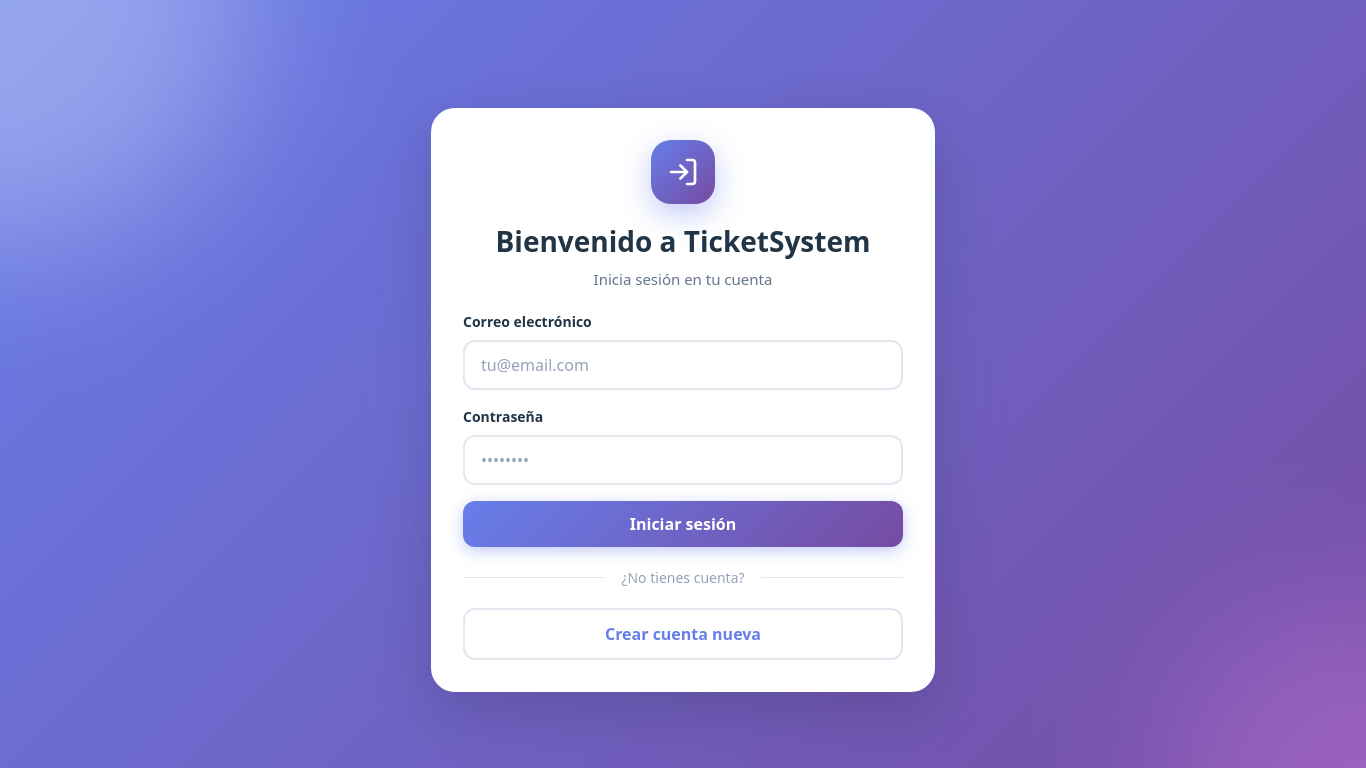
Login Page › displays generic error when error has no message
The image size is (1366, 768).
In the field labelled "Correo electrónico": (683, 365) [463, 340, 903, 390], type "test@test.com"
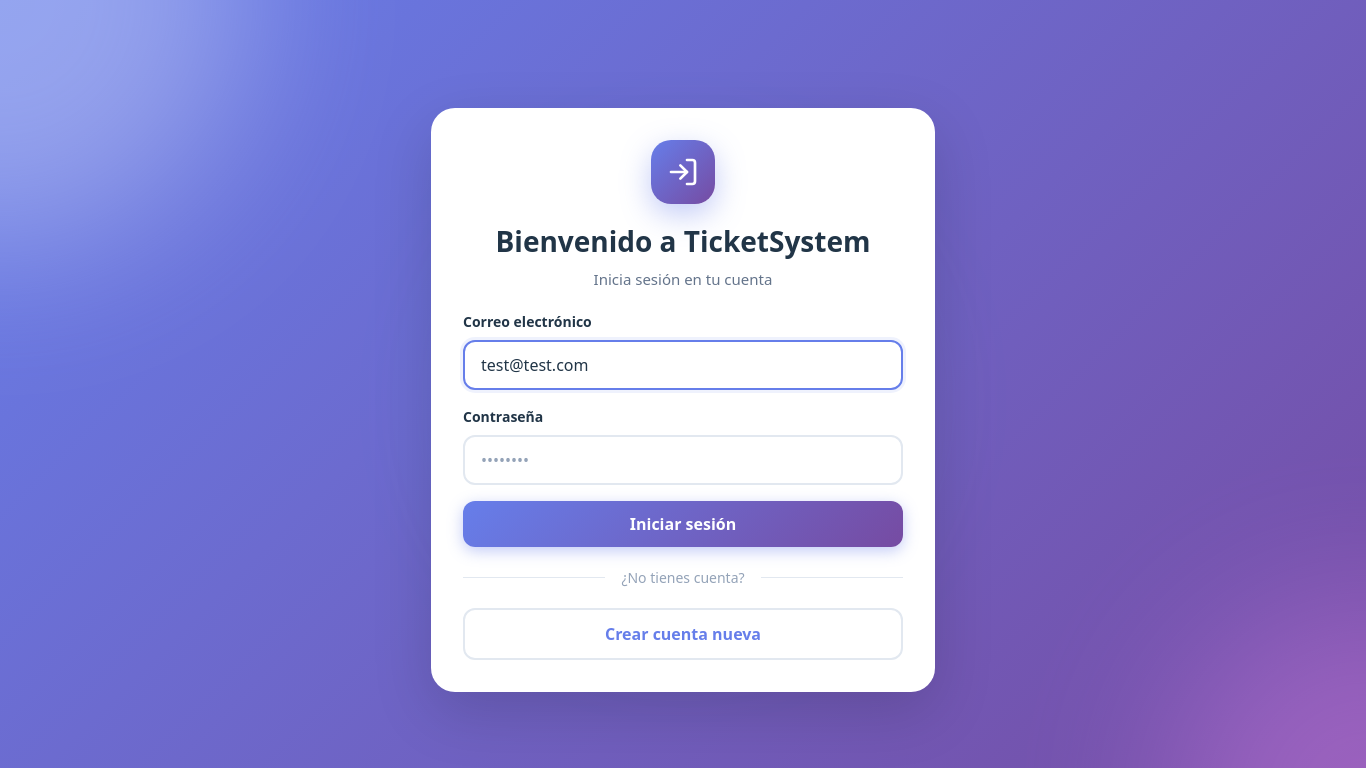
In the password field labelled "Contraseña": (683, 460) [463, 435, 903, 485], type "wrong"
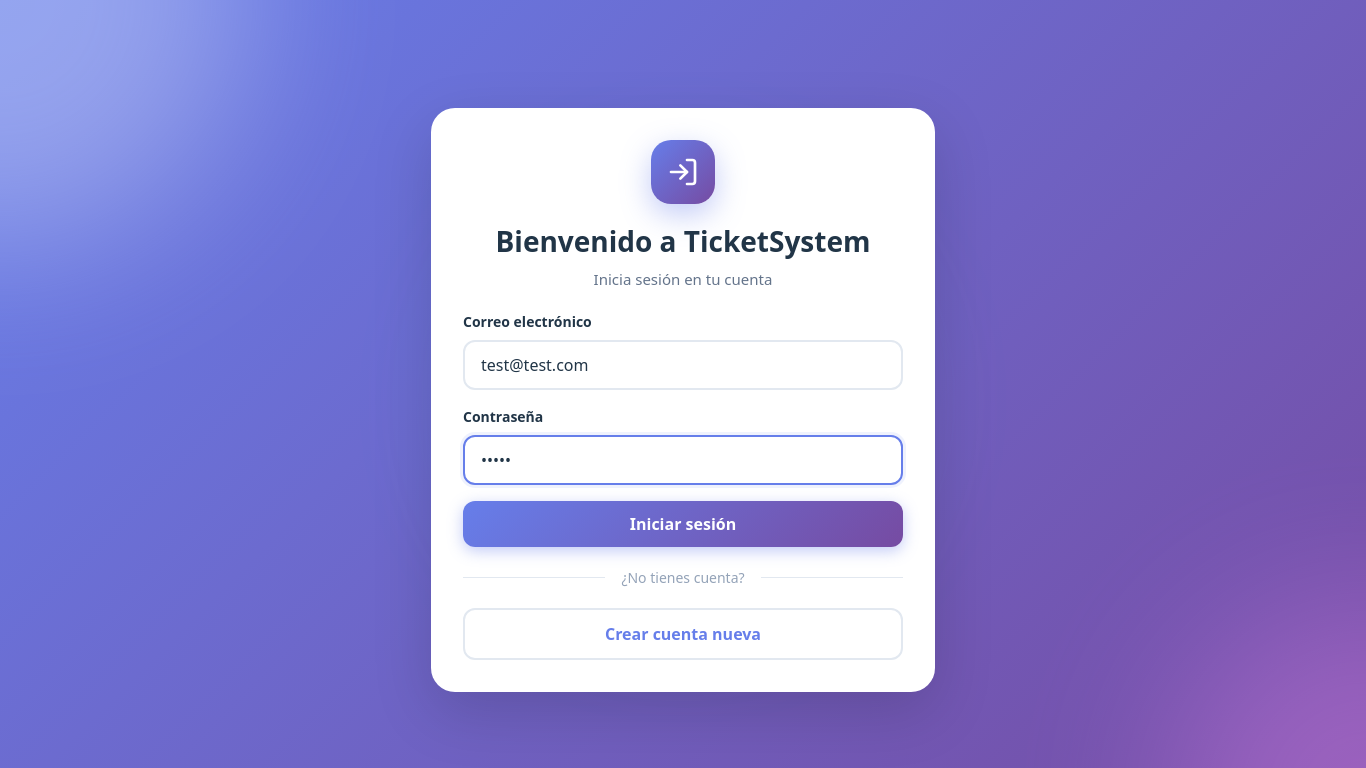
Click the button "Iniciar sesión": (683, 524) [463, 501, 903, 547]
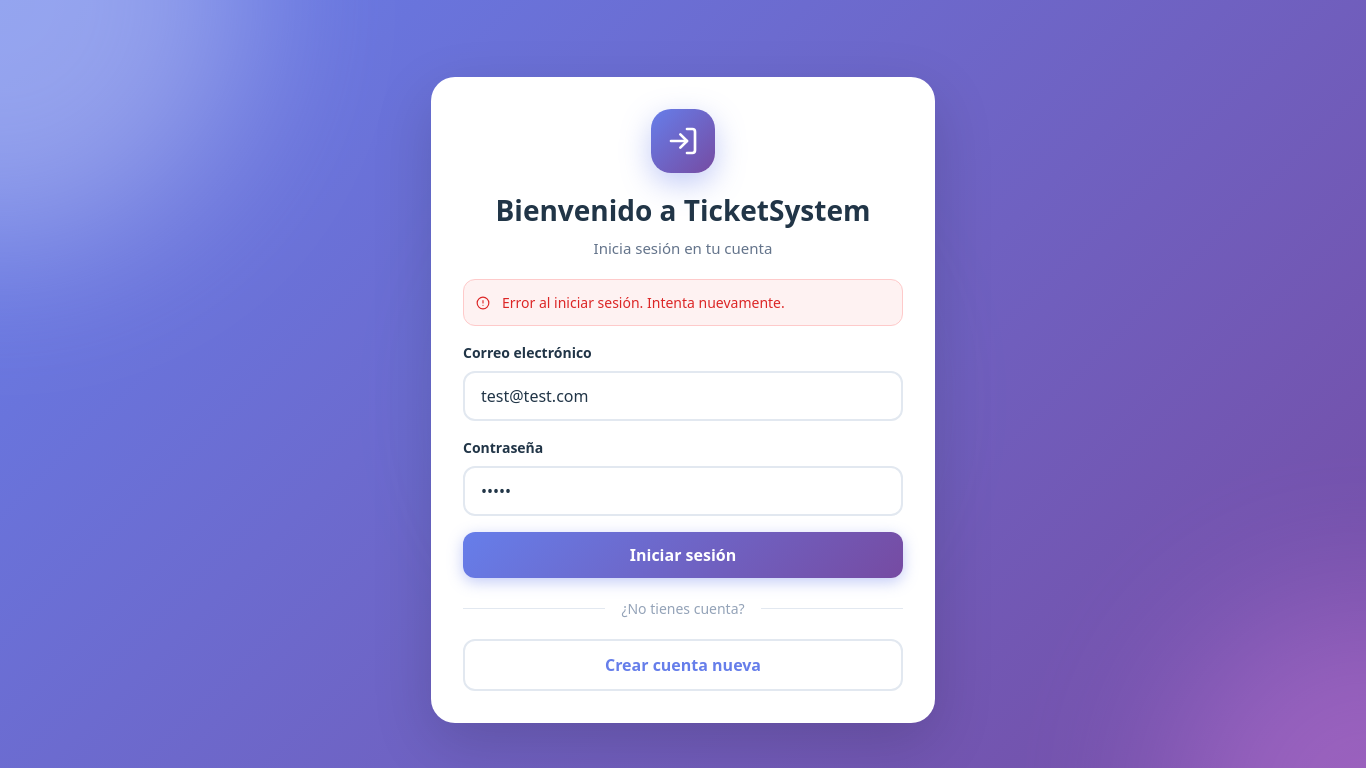
expect the text "Error al iniciar sesión. Intenta nuevamente." is shown: met, box [463, 279, 903, 326]
